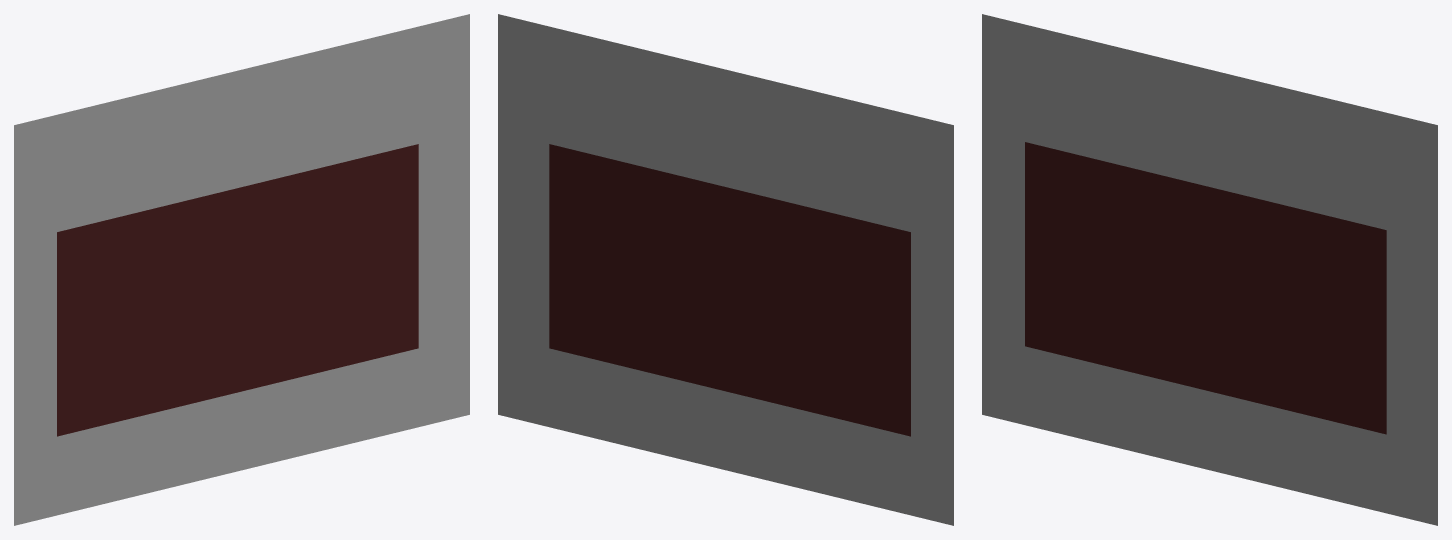
File: FireFront.fbx
3 renders of one model, left to right at view 1: azimuth 30°, elevation 25°; view 2: azimuth 150°, elevation 25°; view 3: azimuth 330°, elevation 25°, orthographic.
Parts seen in each view (by area): view 1: pCube21; view 2: pCube21; view 3: pCube21.
Part boxes in pixels (x1,y1,x2,y2): pCube21: (14,14,469,525); pCube21: (498,14,953,525); pCube21: (982,14,1437,525).
Size of the model in its own units: 1.15 by 0.9658 by 7.78e-08.
